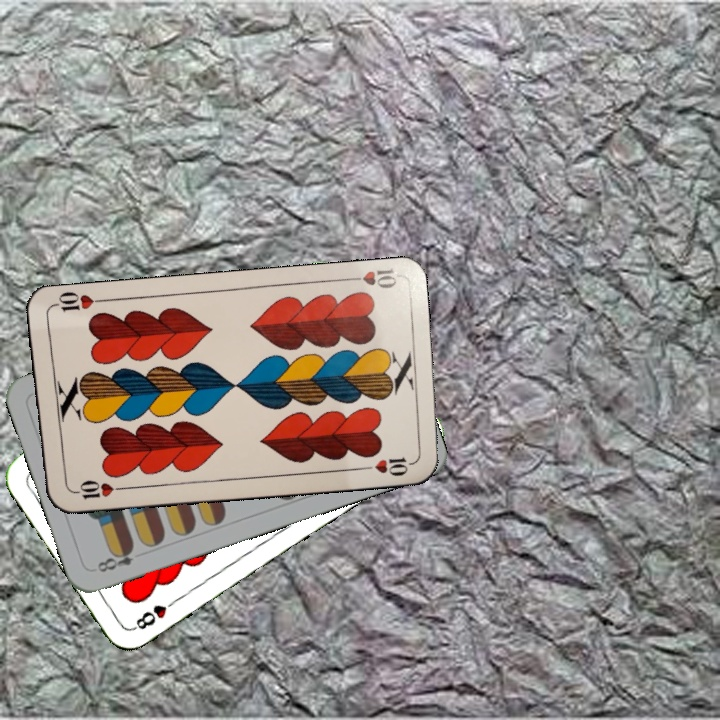E8: (93, 542, 137, 575)
H10: (340, 265, 400, 291), (67, 476, 126, 502)
H8: (129, 594, 181, 633)
